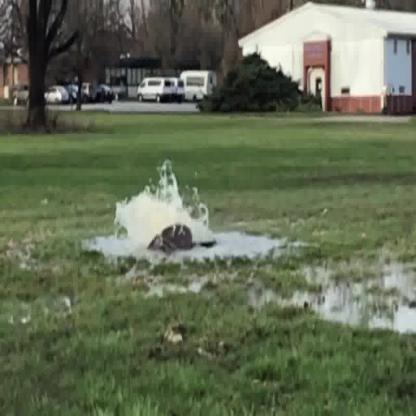drainage overflow-repair-: (96, 155, 216, 256)
